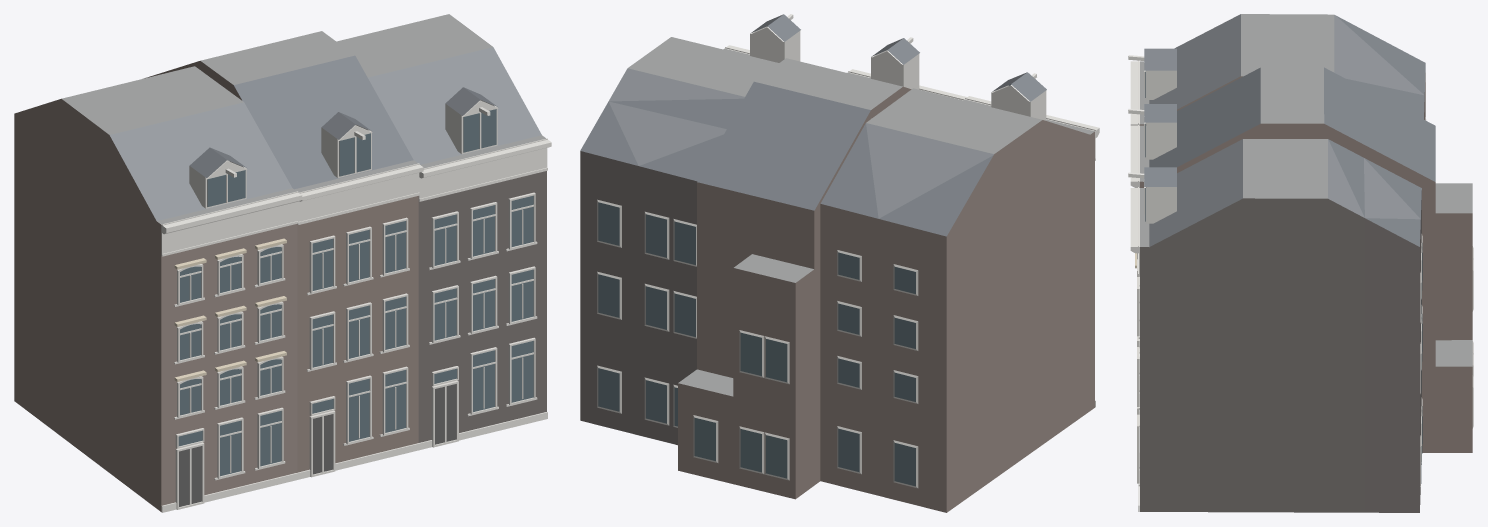
File: chunk-face-ruysdaelkade-75-85-r1.glb
3 renders of one model, left to right at view 1: azimuth 30°, elevation 25°; view 2: azimuth 150°, elevation 25°; view 3: azimuth 270°, elevation 25°, orthographic. The views are drawn at different scales.
Parts seen in each view (by area): view 1: face-ruysdaelkade-75-85-r1; view 2: face-ruysdaelkade-75-85-r1; view 3: face-ruysdaelkade-75-85-r1.
Boxes of the visible parts, box(x1,y1,x2,y2) form: face-ruysdaelkade-75-85-r1: box(14, 14, 551, 512); face-ruysdaelkade-75-85-r1: box(580, 14, 1099, 512); face-ruysdaelkade-75-85-r1: box(1128, 14, 1473, 512).
Bounding box in the file's own units: 18.3 × 15.66 × 14.9.
